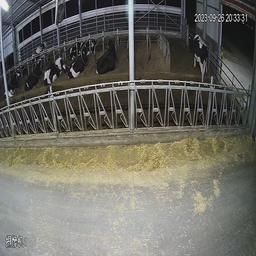cow: (93, 32, 123, 82), (184, 24, 210, 78), (63, 47, 90, 82), (39, 54, 65, 88), (20, 59, 41, 94), (4, 66, 21, 106), (67, 30, 94, 55)
